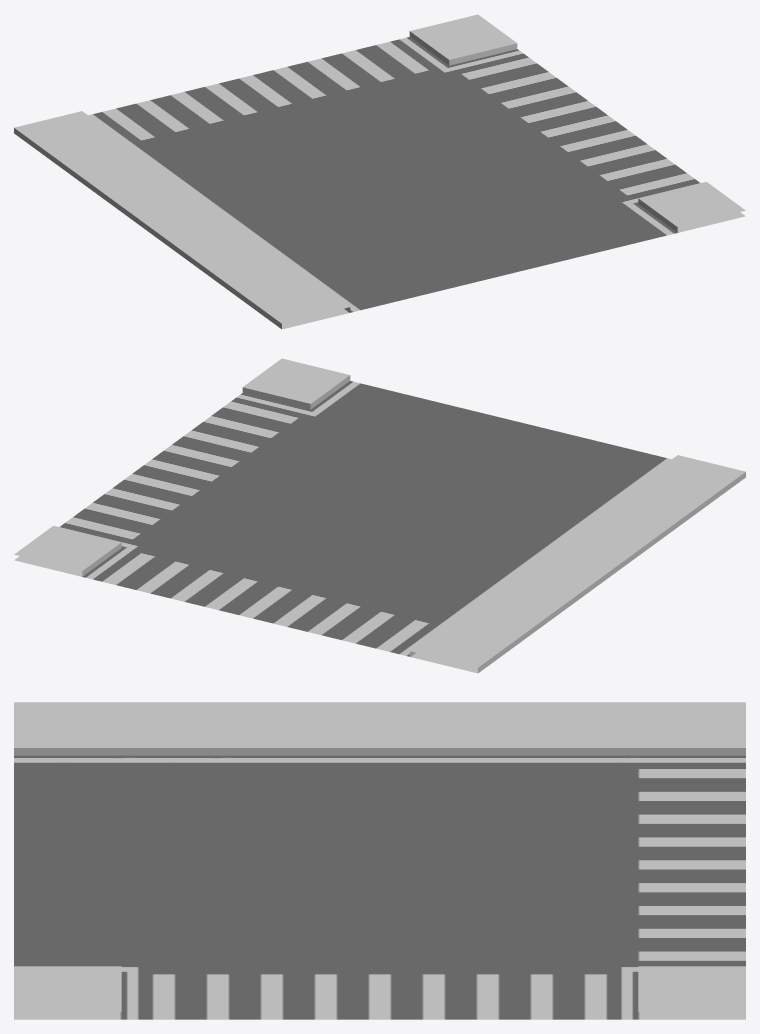
The model's file is HalfCorner02.fbx.
The picture shows the model from 3 angles, top to bottom: view 1: azimuth 30°, elevation 25°; view 2: azimuth 150°, elevation 25°; view 3: azimuth 270°, elevation 25°; orthographic projection. The views are drawn at different scales.
Visible parts, largest first — view 1: HalfCorner02; view 2: HalfCorner02; view 3: HalfCorner02.
Boxes of the visible parts, box(x1,y1,x2,y2) form: HalfCorner02: box(14, 14, 745, 329); HalfCorner02: box(14, 358, 745, 673); HalfCorner02: box(14, 702, 745, 1019).
Bounding box in the file's own units: 1700 × 20 × 1700.
